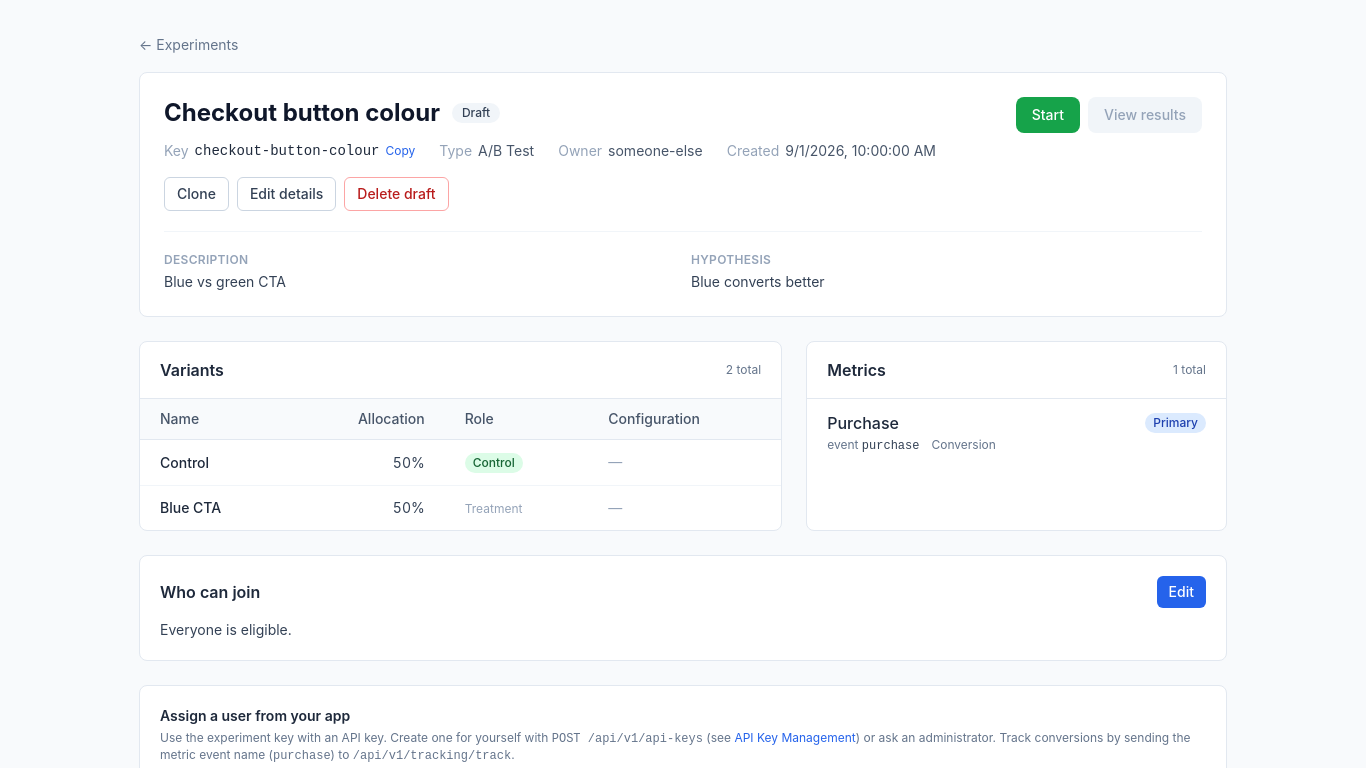
Test: Edit details › nothing changed (or only surrounding spaces) sends nothing and closes the form
Click the button with test id "experiment-edit-details" at {"x": 287, "y": 194}, box x1=237 y1=177 x2=336 y2=211
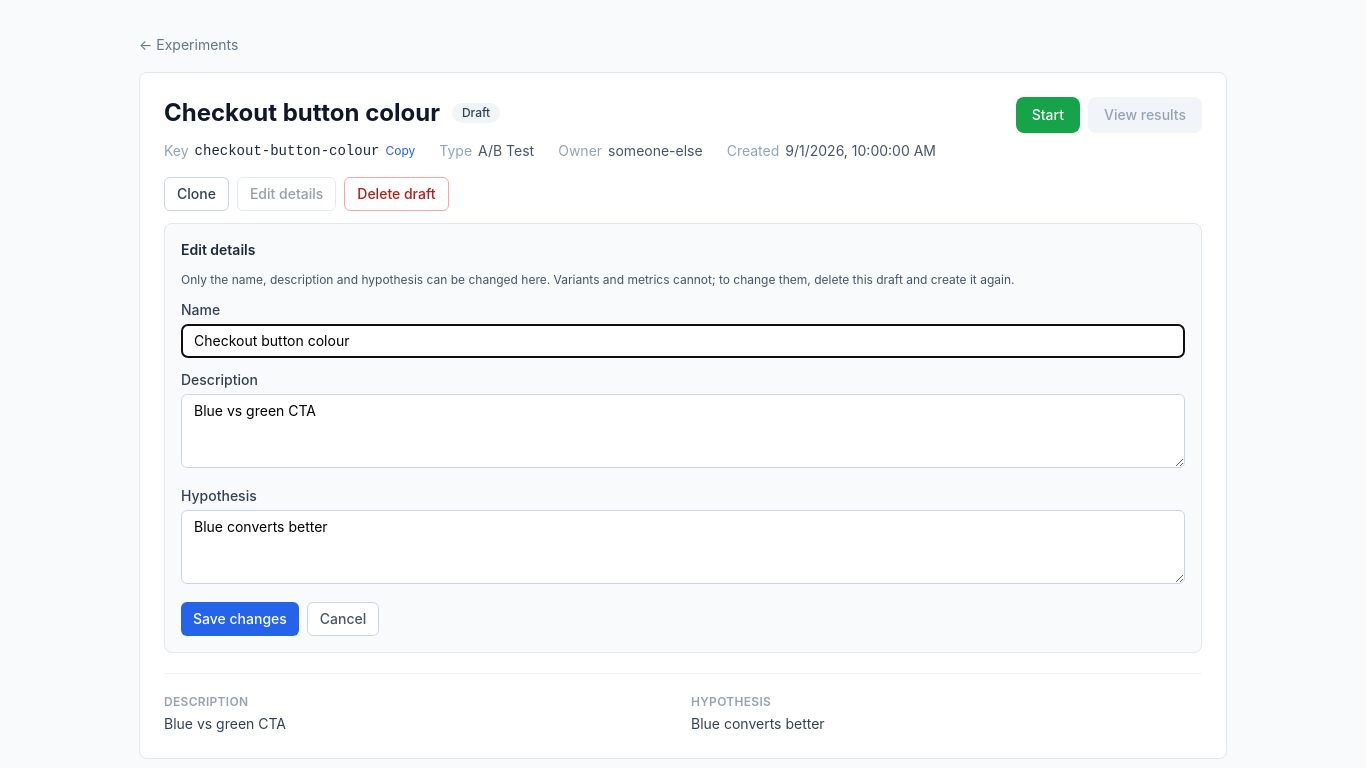
Replace the text in the field with test id "manage-edit-name" with "  Checkout button colour " at {"x": 683, "y": 341}, box x1=181 y1=324 x2=1185 y2=358
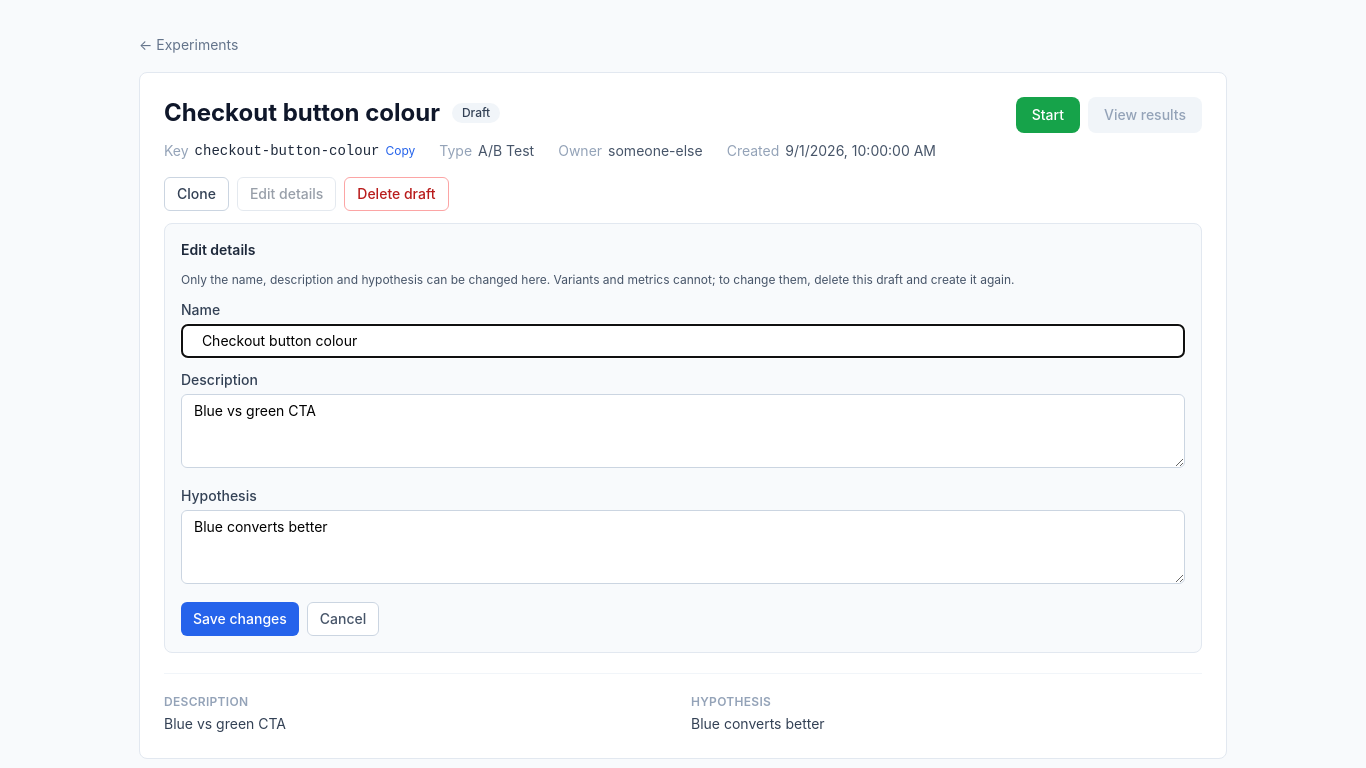
Click the button with test id "manage-edit-save" at {"x": 240, "y": 619}, box x1=181 y1=602 x2=299 y2=636
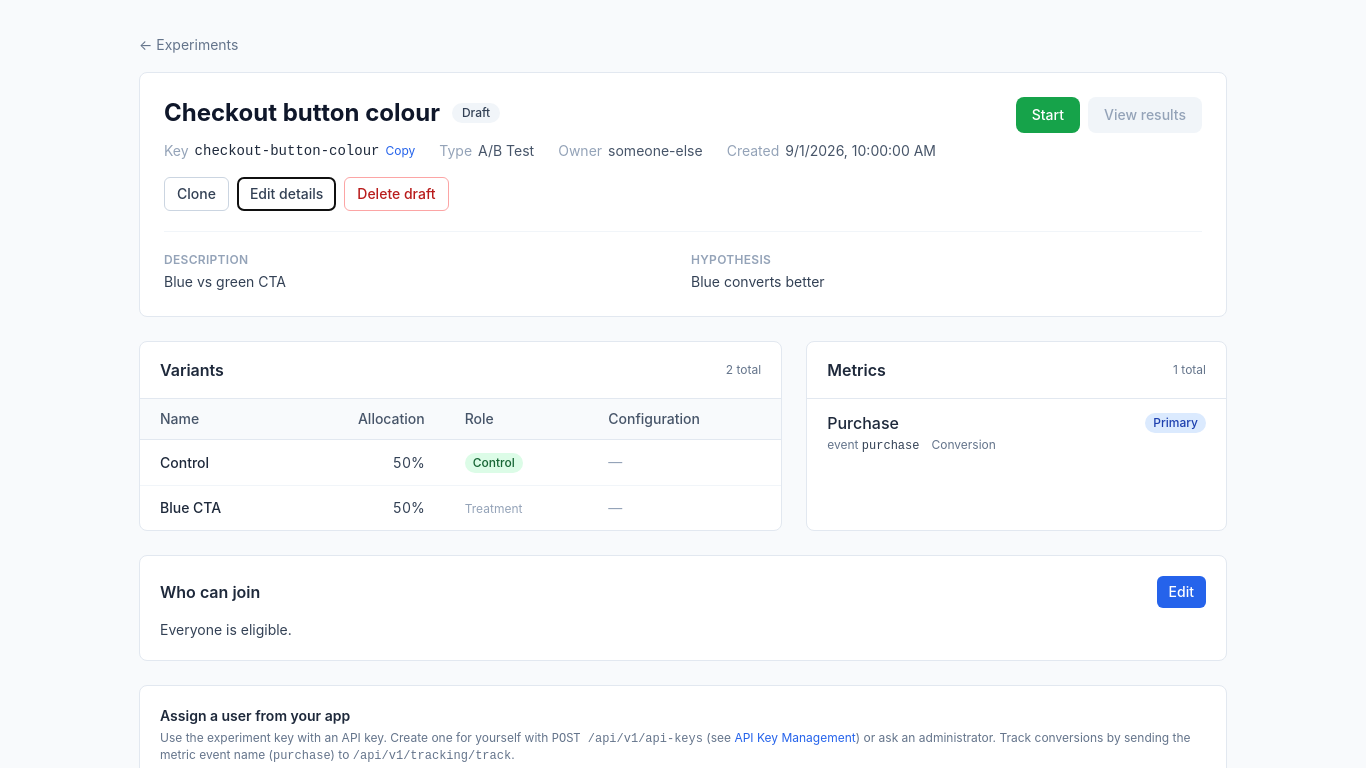
Expected: the form with test id "manage-edit-form" is gone
